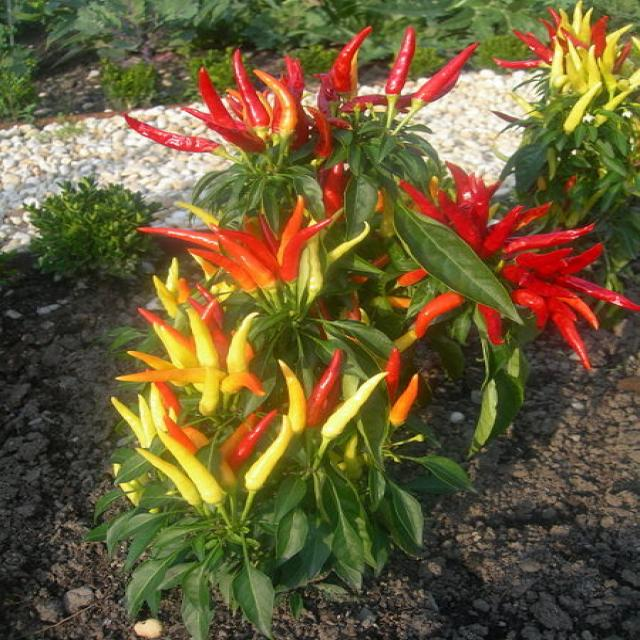chilli: (415, 34, 482, 112), (113, 111, 189, 158), (225, 406, 281, 468), (280, 216, 331, 282), (506, 221, 606, 252), (331, 24, 374, 96), (413, 290, 469, 340), (387, 18, 418, 106), (308, 348, 349, 414), (137, 220, 217, 251), (233, 50, 263, 132), (195, 66, 232, 129), (279, 358, 307, 429), (588, 276, 640, 311), (557, 244, 609, 276), (490, 54, 545, 73)
